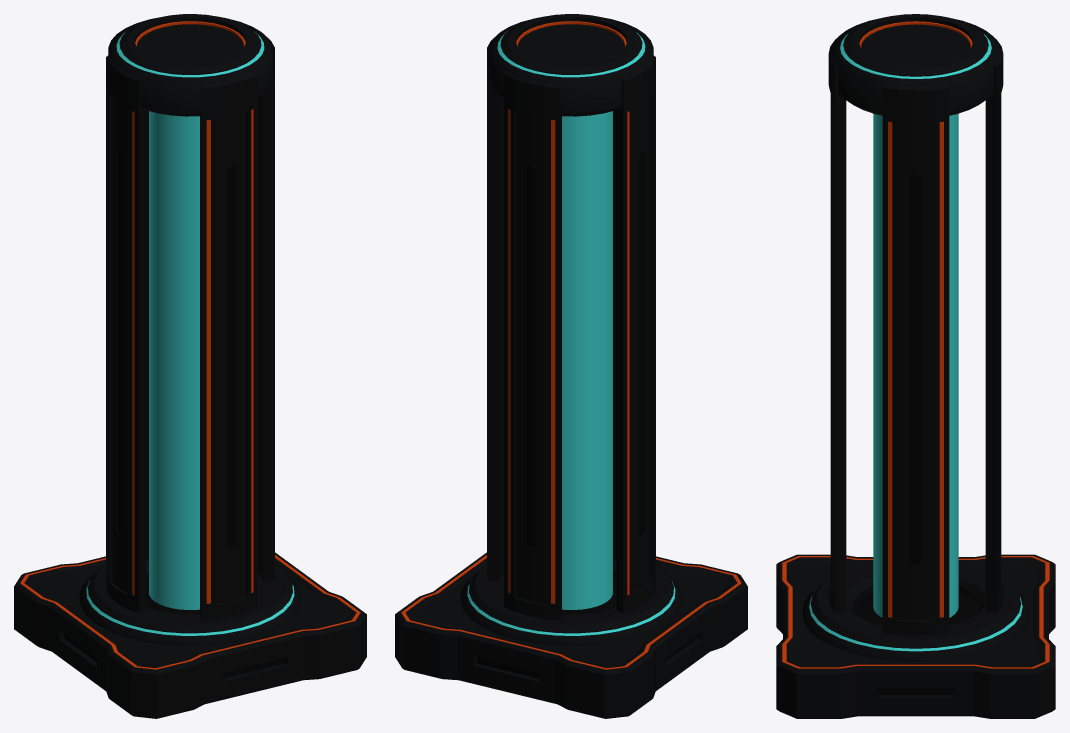
The model's file is SM_Energy_Cell.obj.
The picture shows the model from 3 angles, left to right: view 1: azimuth 30°, elevation 25°; view 2: azimuth 150°, elevation 25°; view 3: azimuth 270°, elevation 25°; orthographic projection. The views are drawn at different scales.
Visible parts, largest first — view 1: SM_Energy_Cell_Base.002; view 2: SM_Energy_Cell_Base.002; view 3: SM_Energy_Cell_Base.002.
Part boxes in pixels (x1=…): SM_Energy_Cell_Base.002: x1=14, y1=14, x2=366, y2=718; SM_Energy_Cell_Base.002: x1=395, y1=14, x2=747, y2=718; SM_Energy_Cell_Base.002: x1=776, y1=14, x2=1055, y2=718.
Bounding box in the file's own units: 0.8 × 1.96 × 0.8.
